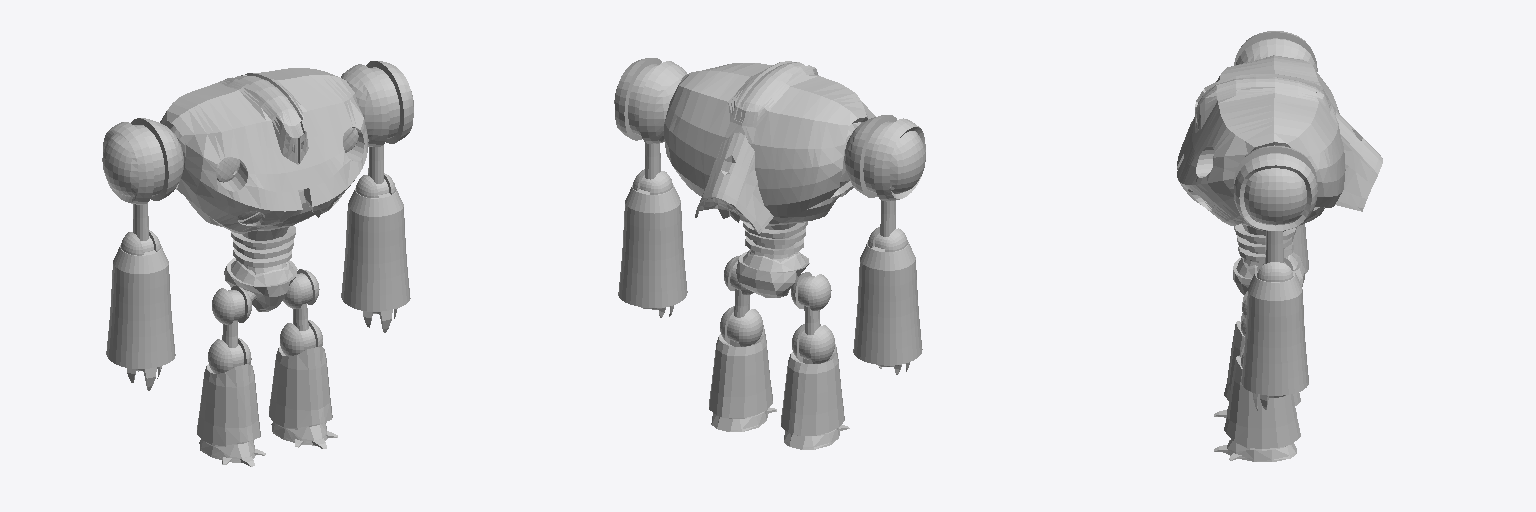
The model's file is RobotUV.obj.
3 renders of one model, left to right at view 1: azimuth 30°, elevation 25°; view 2: azimuth 150°, elevation 25°; view 3: azimuth 270°, elevation 25°, orthographic.
Visible parts, largest first — view 1: RobotTwo:pCube5, RobotTwo:pCube10, RobotTwo:polySurface9 pCube8, pCube8 RobotTwo:polySurface10, pCube3 RobotTwo:polySurface4, RobotTwo:polySurface3 pCube3, pCube1, RobotTwo:RobotTwo4:polySurface7 RobotTwo:pasted__pCube5 RobotTwo, RobotTwo:RobotTwo6:RobotTwo4:polySurface7 RobotTwo:RobotTwo6:pas, pCube2, RobotTwo:pCube11, RobotTwo:RobotTwo5:polySurface5 RobotTwo:pasted__pCube4 RobotTwo (+5 smaller); view 2: RobotTwo:pCube5, RobotTwo:pCube10, pCube8 RobotTwo:polySurface10, RobotTwo:polySurface9 pCube8, pCube3 RobotTwo:polySurface4, RobotTwo:polySurface3 pCube3, RobotTwo:pCube6, RobotTwo:RobotTwo6:RobotTwo4:polySurface7 RobotTwo:RobotTwo6:pas, pCube2, pCube1, RobotTwo:RobotTwo4:polySurface7 RobotTwo:pasted__pCube5 RobotTwo, RobotTwo:pCube11 (+4 smaller); view 3: RobotTwo:pCube5, RobotTwo:polySurface9 pCube8, RobotTwo:polySurface3 pCube3, RobotTwo:pCube10, RobotTwo:pCube6, pCube3 RobotTwo:polySurface4, pCube1, RobotTwo:pCube11, pCube2, RobotTwo:polySurface7 pCube5, RobotTwo:polySurface5 pCube4.
Part boxes in pixels (left/top/right/bottom): RobotTwo:pCube5: left=160, top=68, right=368, bottom=233; RobotTwo:pCube10: left=197, top=346, right=332, bottom=446; RobotTwo:polySurface9 pCube8: left=341, top=188, right=410, bottom=311; pCube8 RobotTwo:polySurface10: left=106, top=245, right=175, bottom=368; pCube3 RobotTwo:polySurface4: left=102, top=118, right=183, bottom=204; RobotTwo:polySurface3 pCube3: left=341, top=61, right=413, bottom=146; pCube1: left=231, top=225, right=295, bottom=274; RobotTwo:RobotTwo4:polySurface7 RobotTwo:pasted__pCube5 RobotTwo: left=212, top=269, right=319, bottom=324; RobotTwo:RobotTwo6:RobotTwo4:polySurface7 RobotTwo:RobotTwo6:pas: left=208, top=320, right=322, bottom=373; pCube2: left=224, top=258, right=297, bottom=311; RobotTwo:pCube11: left=199, top=422, right=327, bottom=462; RobotTwo:RobotTwo5:polySurface5 RobotTwo:pasted__pCube4 RobotTwo: left=222, top=303, right=308, bottom=347; RobotTwo:pCube5: left=663, top=61, right=875, bottom=216; RobotTwo:pCube10: left=709, top=327, right=844, bottom=435; pCube8 RobotTwo:polySurface10: left=853, top=242, right=922, bottom=365; RobotTwo:polySurface9 pCube8: left=618, top=185, right=687, bottom=307; pCube3 RobotTwo:polySurface4: left=844, top=115, right=925, bottom=201; RobotTwo:polySurface3 pCube3: left=614, top=58, right=686, bottom=143; RobotTwo:pCube6: left=695, top=132, right=773, bottom=233; RobotTwo:RobotTwo6:RobotTwo4:polySurface7 RobotTwo:RobotTwo6:pas: left=720, top=306, right=834, bottom=363; pCube2: left=736, top=250, right=809, bottom=297; pCube1: left=743, top=222, right=807, bottom=262; RobotTwo:RobotTwo4:polySurface7 RobotTwo:pasted__pCube5 RobotTwo: left=724, top=255, right=831, bottom=310; RobotTwo:pCube11: left=711, top=410, right=839, bottom=449; RobotTwo:pCube5: left=1177, top=55, right=1345, bottom=225; RobotTwo:polySurface9 pCube8: left=1241, top=270, right=1308, bottom=395; RobotTwo:polySurface3 pCube3: left=1234, top=146, right=1317, bottom=230; RobotTwo:pCube10: left=1224, top=321, right=1300, bottom=450; RobotTwo:pCube6: left=1335, top=111, right=1382, bottom=211; pCube3 RobotTwo:polySurface4: left=1234, top=31, right=1317, bottom=71; pCube1: left=1234, top=224, right=1296, bottom=266; RobotTwo:pCube11: left=1226, top=409, right=1296, bottom=461; pCube2: left=1233, top=252, right=1304, bottom=294; RobotTwo:polySurface7 pCube5: left=1257, top=258, right=1293, bottom=281; RobotTwo:polySurface5 pCube4: left=1265, top=231, right=1283, bottom=263.
Size of the model in its own units: 3.32 by 3.76 by 1.98.